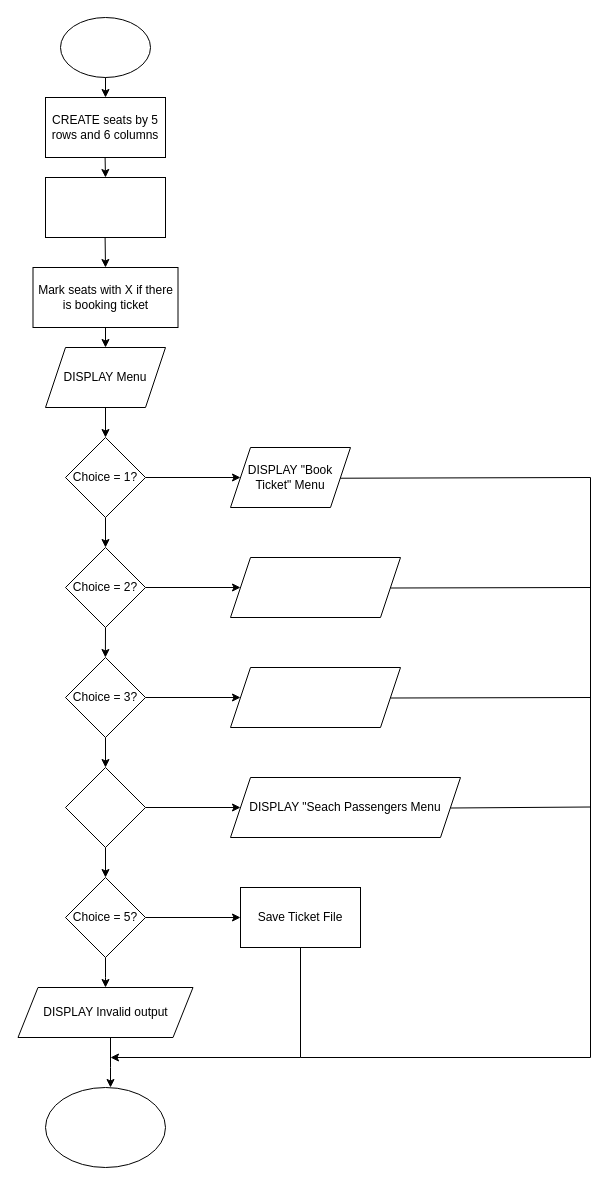
Some shapes in this 609 by 1185 pixel diagram are drawn without their labels. Each missing label, with the centre of its shape:
Choice = 4?: (105,807)
DISPLAY "Cancel Booking" Menu: (315,697)
DISPLAY Seat Layout: (315,587)
END: (105,1127)
Load booking data: (105,207)
START: (105,47)
